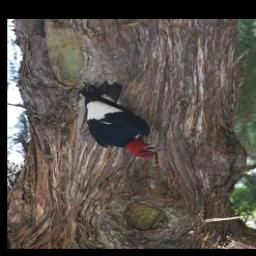Woodpecker: (72, 82, 169, 161)
